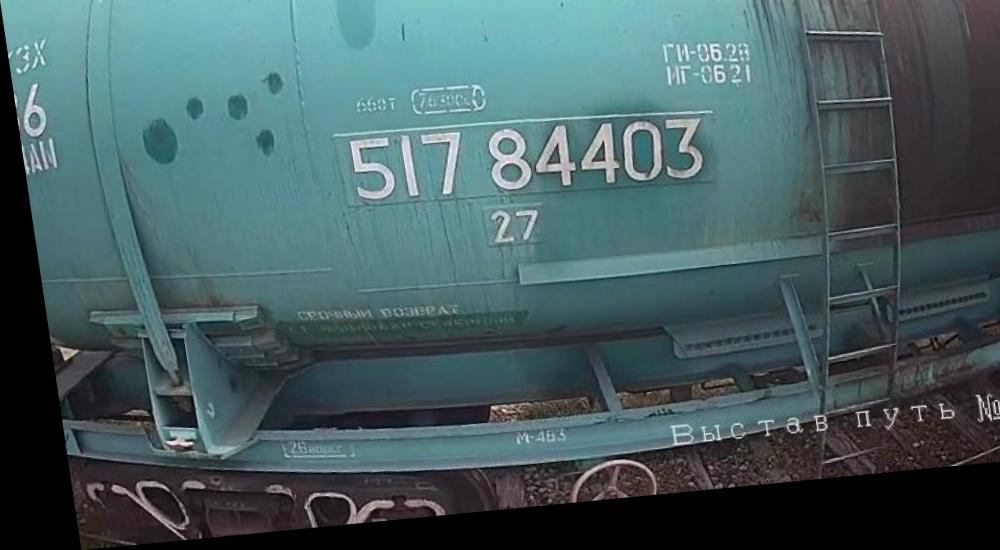Wagon-number: (334, 115, 705, 225)
